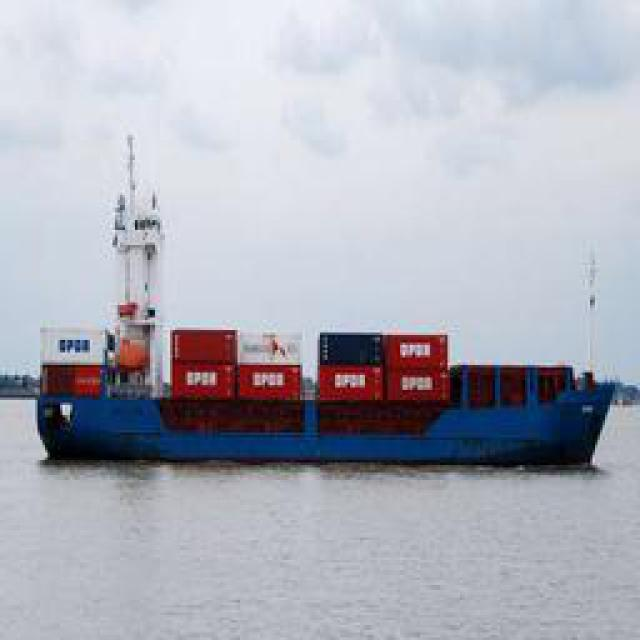Ship: (20, 133, 628, 474)
